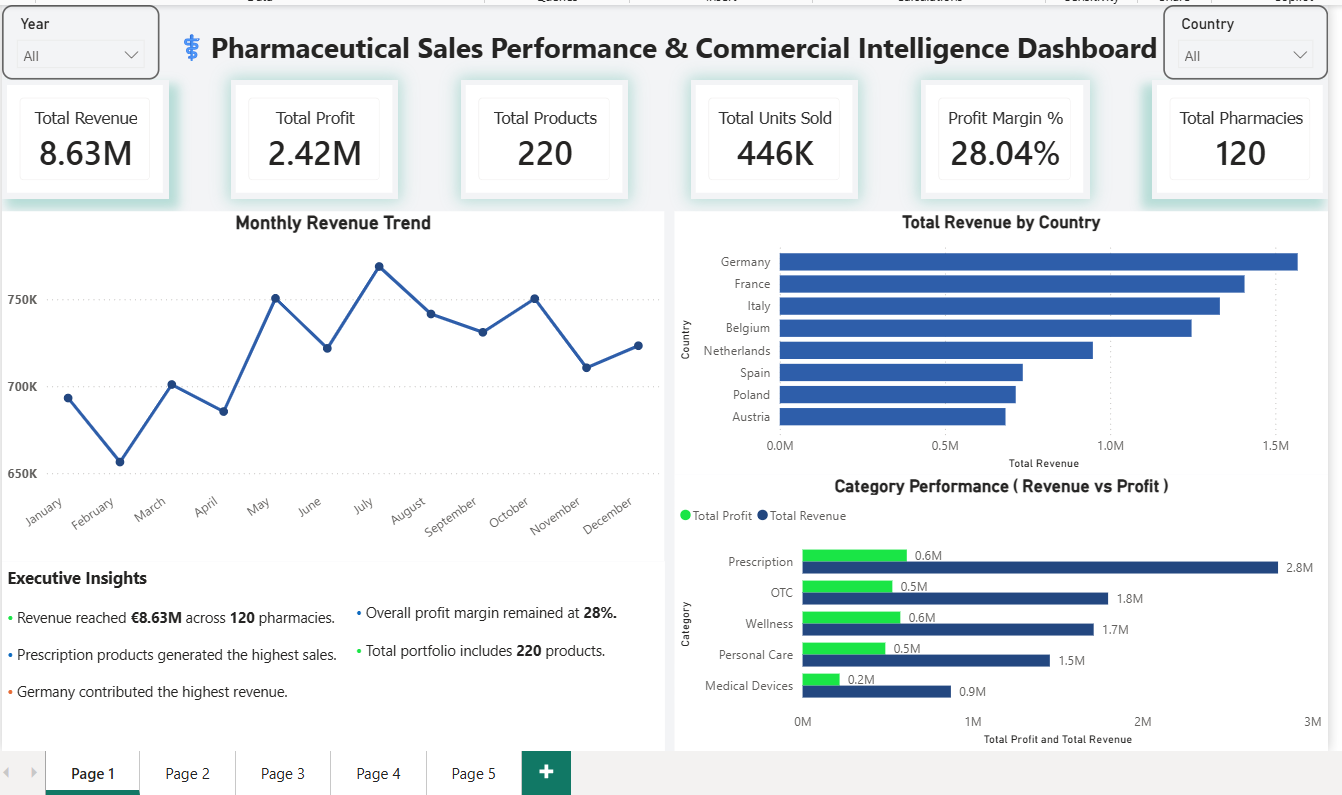

Layout of this report page (visuals, bound fields, positions):
{"tool":"powerbi","page":{"name":"Page 1","canvas":[1280,720],"ordinal":0},"visuals":[{"type":"cardVisual","fields":{"Data":["Measures_Table.Total Revenue"]},"box":[0,72.4,160.5,114.6],"z":0},{"type":"cardVisual","fields":{"Data":["Measures_Table.Total Profit"]},"box":[220.6,72.6,161.7,114.6],"z":1000},{"type":"cardVisual","fields":{"Data":["Measures_Table.Profit Margin %"]},"box":[886.4,72.4,162.9,114.6],"z":2000},{"type":"cardVisual","fields":{"Data":["Measures_Table.Total Units Sold"]},"box":[664.4,72.4,161.7,114.6],"z":3000},{"type":"cardVisual","fields":{"Data":["Measures_Table.Total Products"]},"box":[442.5,72.6,161.7,114.6],"z":4000},{"type":"cardVisual","fields":{"Data":["Measures_Table.Total Pharmacies"]},"box":[1109.5,72.6,170.1,114.6],"z":5000},{"type":"textbox","box":[0,0,1280,63.9],"z":6000},{"type":"slicer","fields":{"Values":["DimDate_Final.Date.Variation.Date Hierarchy.Year"]},"box":[0,0,152,72.4],"z":7000},{"type":"slicer","fields":{"Values":["DimPharmacy_Final.Country"]},"box":[1120.8,0,159.3,72.4],"z":8000},{"type":"lineChart","title":"Monthly Revenue Trend","fields":{"Category":["DimDate_Final.YearMonth.Variation.Date Hierarchy.Month"],"Y":["Measures_Table.Total Revenue"]},"box":[0,199.1,639.4,337.8],"z":9000},{"type":"clusteredBarChart","fields":{"Category":["DimPharmacy_Final.Country"],"Y":["Measures_Table.Total Revenue"]},"box":[649.1,199.1,631,254.6],"z":10000},{"type":"clusteredBarChart","title":"Category Performance ( Revenue vs Profit )","fields":{"Y":["Measures_Table.Total Profit","Measures_Table.Total Revenue"],"Category":["DimProduct_Final.Category"]},"box":[649.1,453.6,631,266.6],"z":11000},{"type":"textbox","box":[0,536.9,336.6,183.4],"z":12000},{"type":"textbox","box":[336.6,536.9,302.8,183.4],"z":13000}]}

Visuals, with their boxes on the page's 1280x720 design canvas (x1, y1, x2, y2). These are canvas units, not pixel positions in the 1342x795 screenshot, which may show the page scaled, cropped or inside an application window:
cardVisual - Measures_Table.Total Revenue: pyautogui.locateOnScreen(0, 72, 160, 187)
cardVisual - Measures_Table.Total Profit: pyautogui.locateOnScreen(221, 73, 382, 187)
cardVisual - Measures_Table.Profit Margin %: pyautogui.locateOnScreen(886, 72, 1049, 187)
cardVisual - Measures_Table.Total Units Sold: pyautogui.locateOnScreen(664, 72, 826, 187)
cardVisual - Measures_Table.Total Products: pyautogui.locateOnScreen(442, 73, 604, 187)
cardVisual - Measures_Table.Total Pharmacies: pyautogui.locateOnScreen(1110, 73, 1280, 187)
textbox: pyautogui.locateOnScreen(0, 0, 1280, 64)
slicer - DimDate_Final.Date.Variation.Date Hierarchy.Year: pyautogui.locateOnScreen(0, 0, 152, 72)
slicer - DimPharmacy_Final.Country: pyautogui.locateOnScreen(1121, 0, 1280, 72)
"Monthly Revenue Trend" lineChart: pyautogui.locateOnScreen(0, 199, 639, 537)
clusteredBarChart - DimPharmacy_Final.Country x Measures_Table.Total Revenue: pyautogui.locateOnScreen(649, 199, 1280, 454)
"Category Performance ( Revenue vs Profit )" clusteredBarChart: pyautogui.locateOnScreen(649, 454, 1280, 720)
textbox: pyautogui.locateOnScreen(0, 537, 337, 720)
textbox: pyautogui.locateOnScreen(337, 537, 639, 720)
